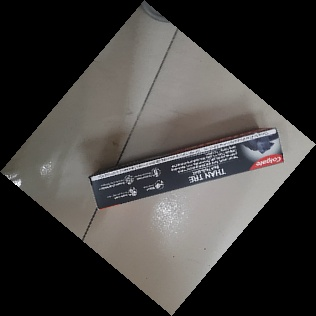Colgate Than: (90, 127, 284, 213)
